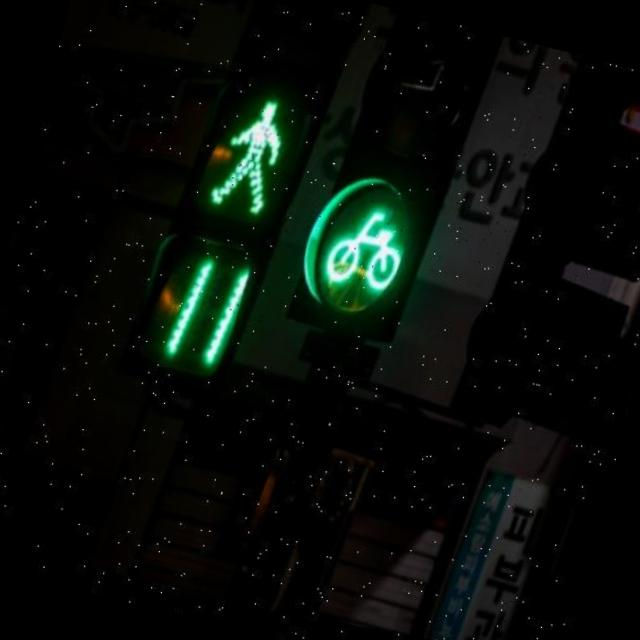green_light: (136, 77, 326, 396)
